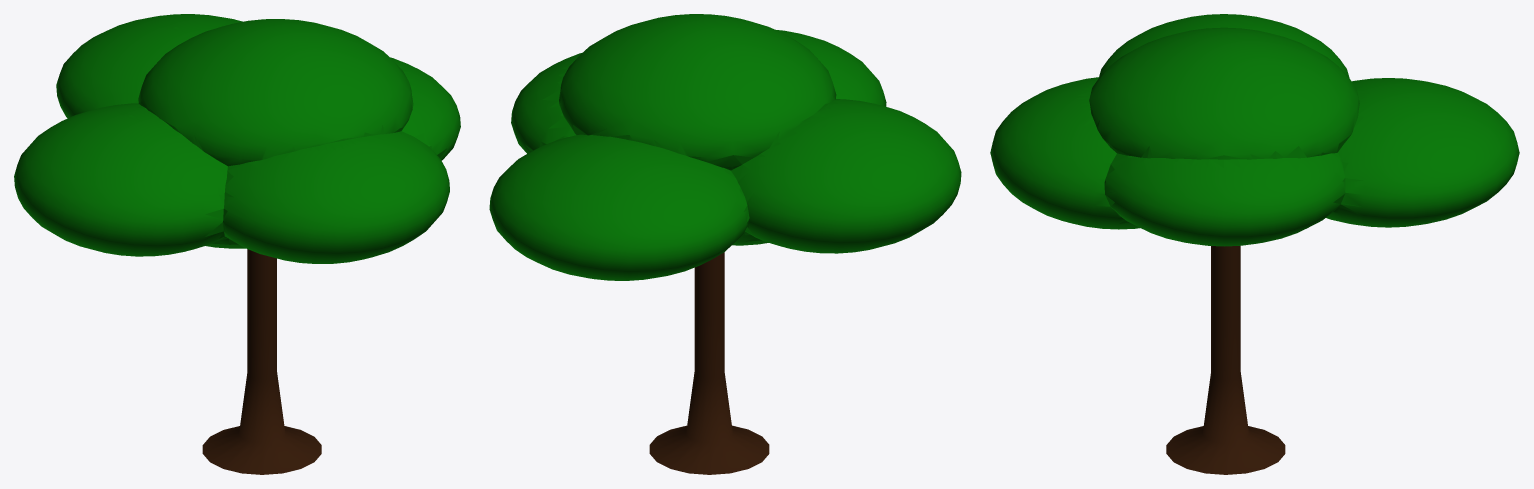
File: tree1.FBX
3 views of the same model, side by side, from view 1: azimuth 30°, elevation 25°; view 2: azimuth 150°, elevation 25°; view 3: azimuth 270°, elevation 25° (orthographic).
Parts seen in each view (by area): view 1: tree1; view 2: tree1; view 3: tree1.
Part boxes in pixels (x1,y1,x2,y2): tree1: (14,14,460,474); tree1: (489,14,961,474); tree1: (990,14,1519,474).
Bounding box in the file's own units: 48.19 × 45.8 × 53.53.
